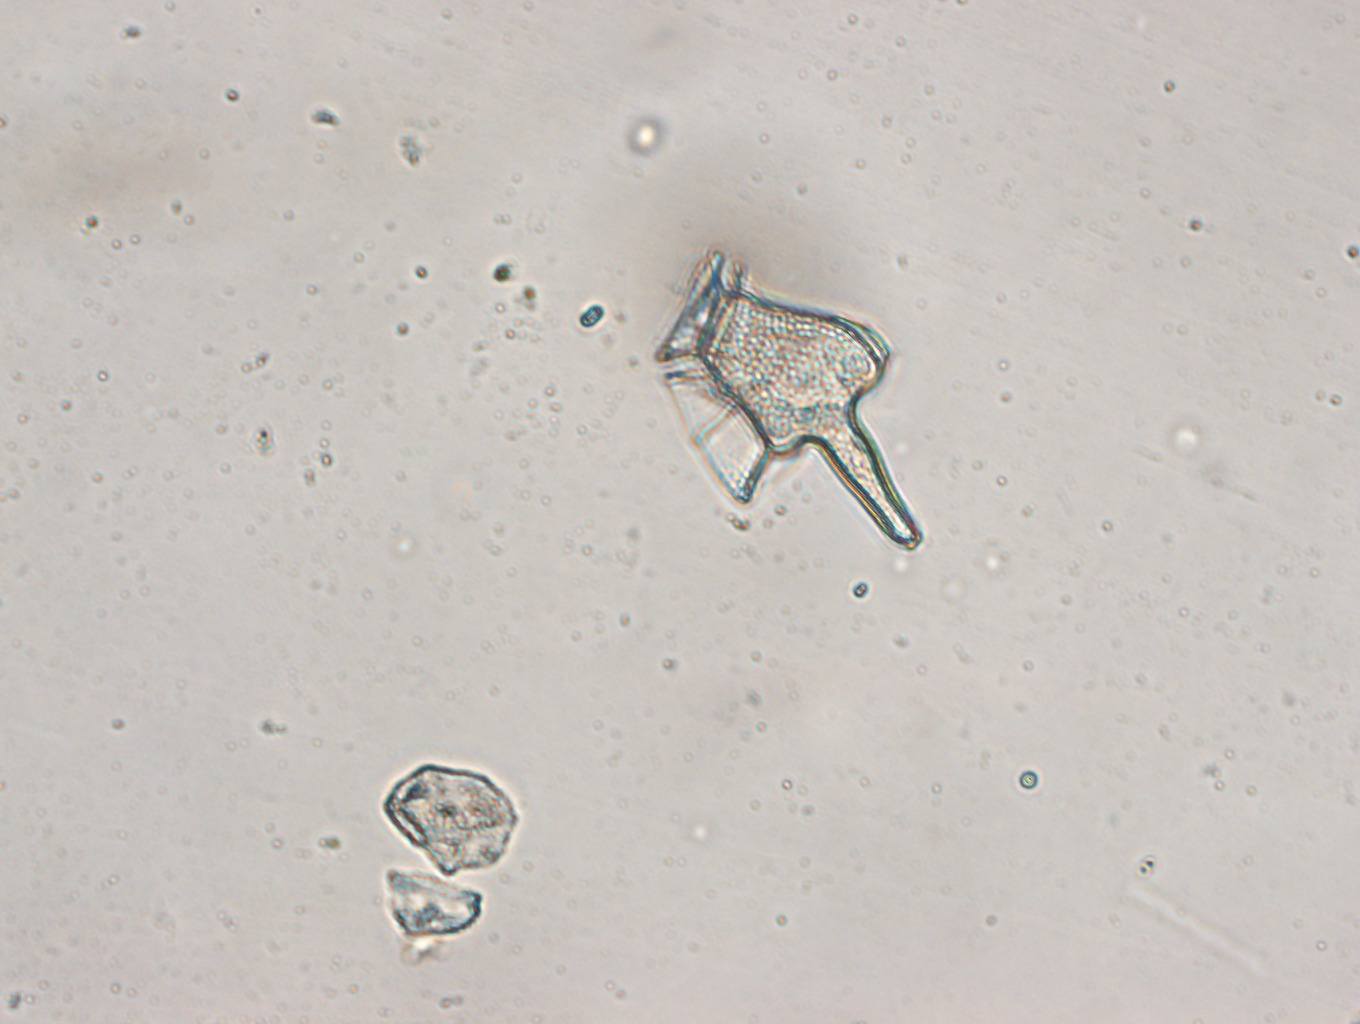dinophysis caudata: (648, 245, 928, 554)
